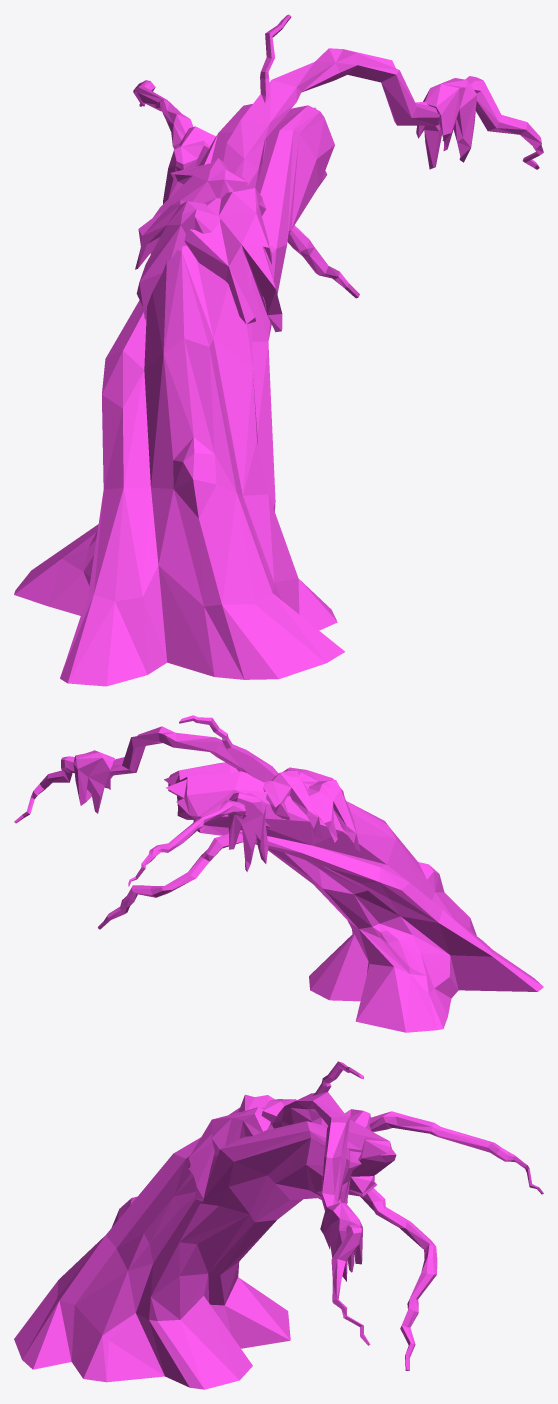
File: SM_Tree_Swamp_Broken_A_Fantasy.fbx
3 views of the same model, one above another, from view 1: azimuth 30°, elevation 25°; view 2: azimuth 150°, elevation 25°; view 3: azimuth 270°, elevation 25° (orthographic). The views are drawn at different scales.
Parts seen in each view (by area): view 1: SM_Tree_Swamp_Broken_A_Fantasy; view 2: SM_Tree_Swamp_Broken_A_Fantasy; view 3: SM_Tree_Swamp_Broken_A_Fantasy.
Part boxes in pixels (bbox=[...]): SM_Tree_Swamp_Broken_A_Fantasy: bbox=[14, 14, 543, 686]; SM_Tree_Swamp_Broken_A_Fantasy: bbox=[14, 715, 543, 1032]; SM_Tree_Swamp_Broken_A_Fantasy: bbox=[14, 1061, 543, 1389].
Size of the model in its own units: 6.23 by 4.15 by 5.58.
